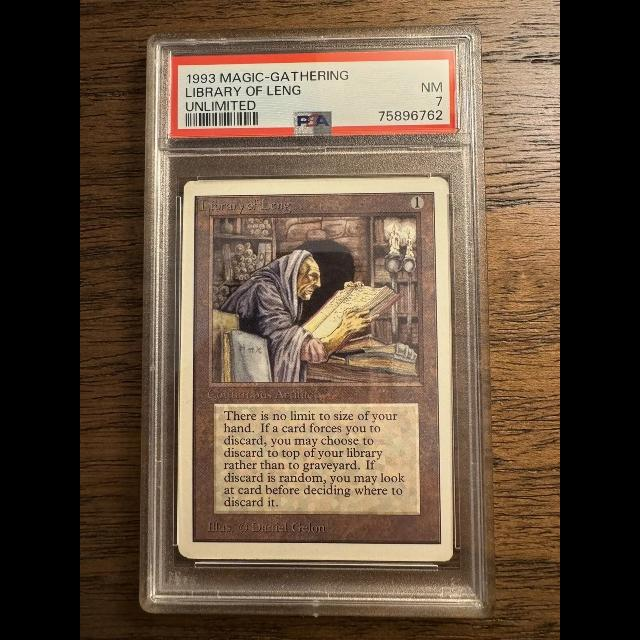card: (177, 177, 454, 562)
psa_label: (168, 50, 457, 138)
psa_slab: (140, 23, 496, 619)
